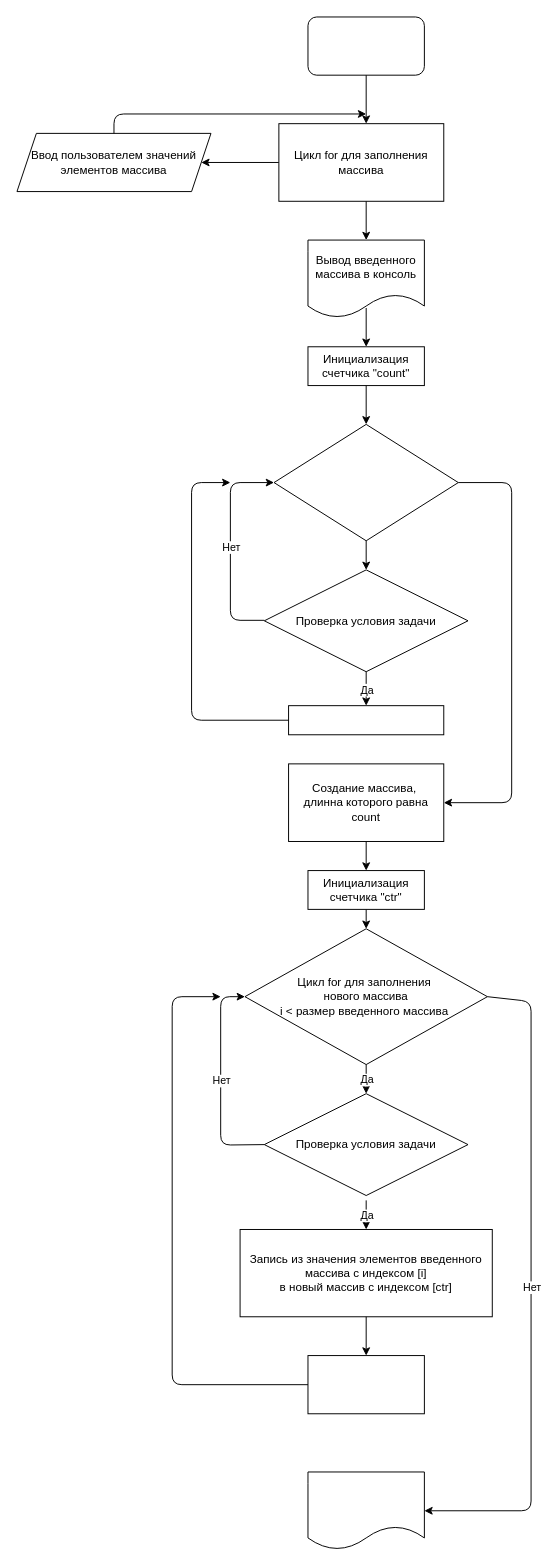
The diagram is 558 pixels wide and 1567 high, and some of its shapes have lost their labels. The centre of each missing label's shape, as x and y in pixels:
"count++" goes at pixel 366 720.
"ctr++" goes at pixel 365 1384.
"Start Подключение библиотек Очистка консоли" goes at pixel 365 45.
"Вывод нового массива в консоль" goes at pixel 365 1510.
"Цикл for для подсчета количества элементов нового массива" goes at pixel 365 482.
